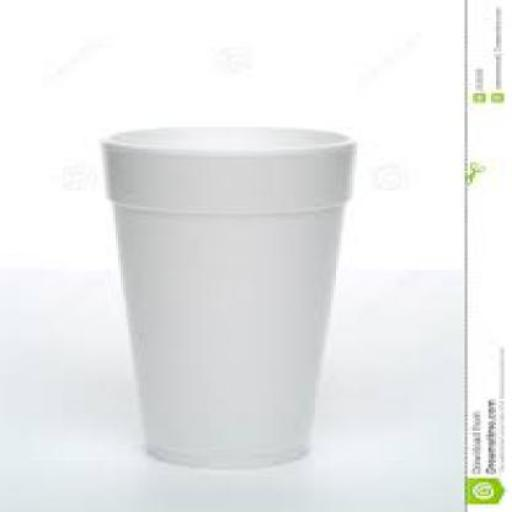paper: (102, 122, 352, 468)
